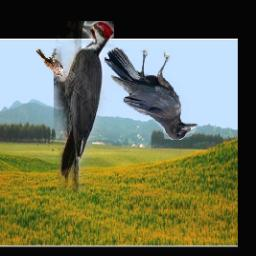Crow: (105, 49, 198, 141)
Sparrow: (36, 49, 65, 77)
Woodpecker: (53, 22, 113, 194)
